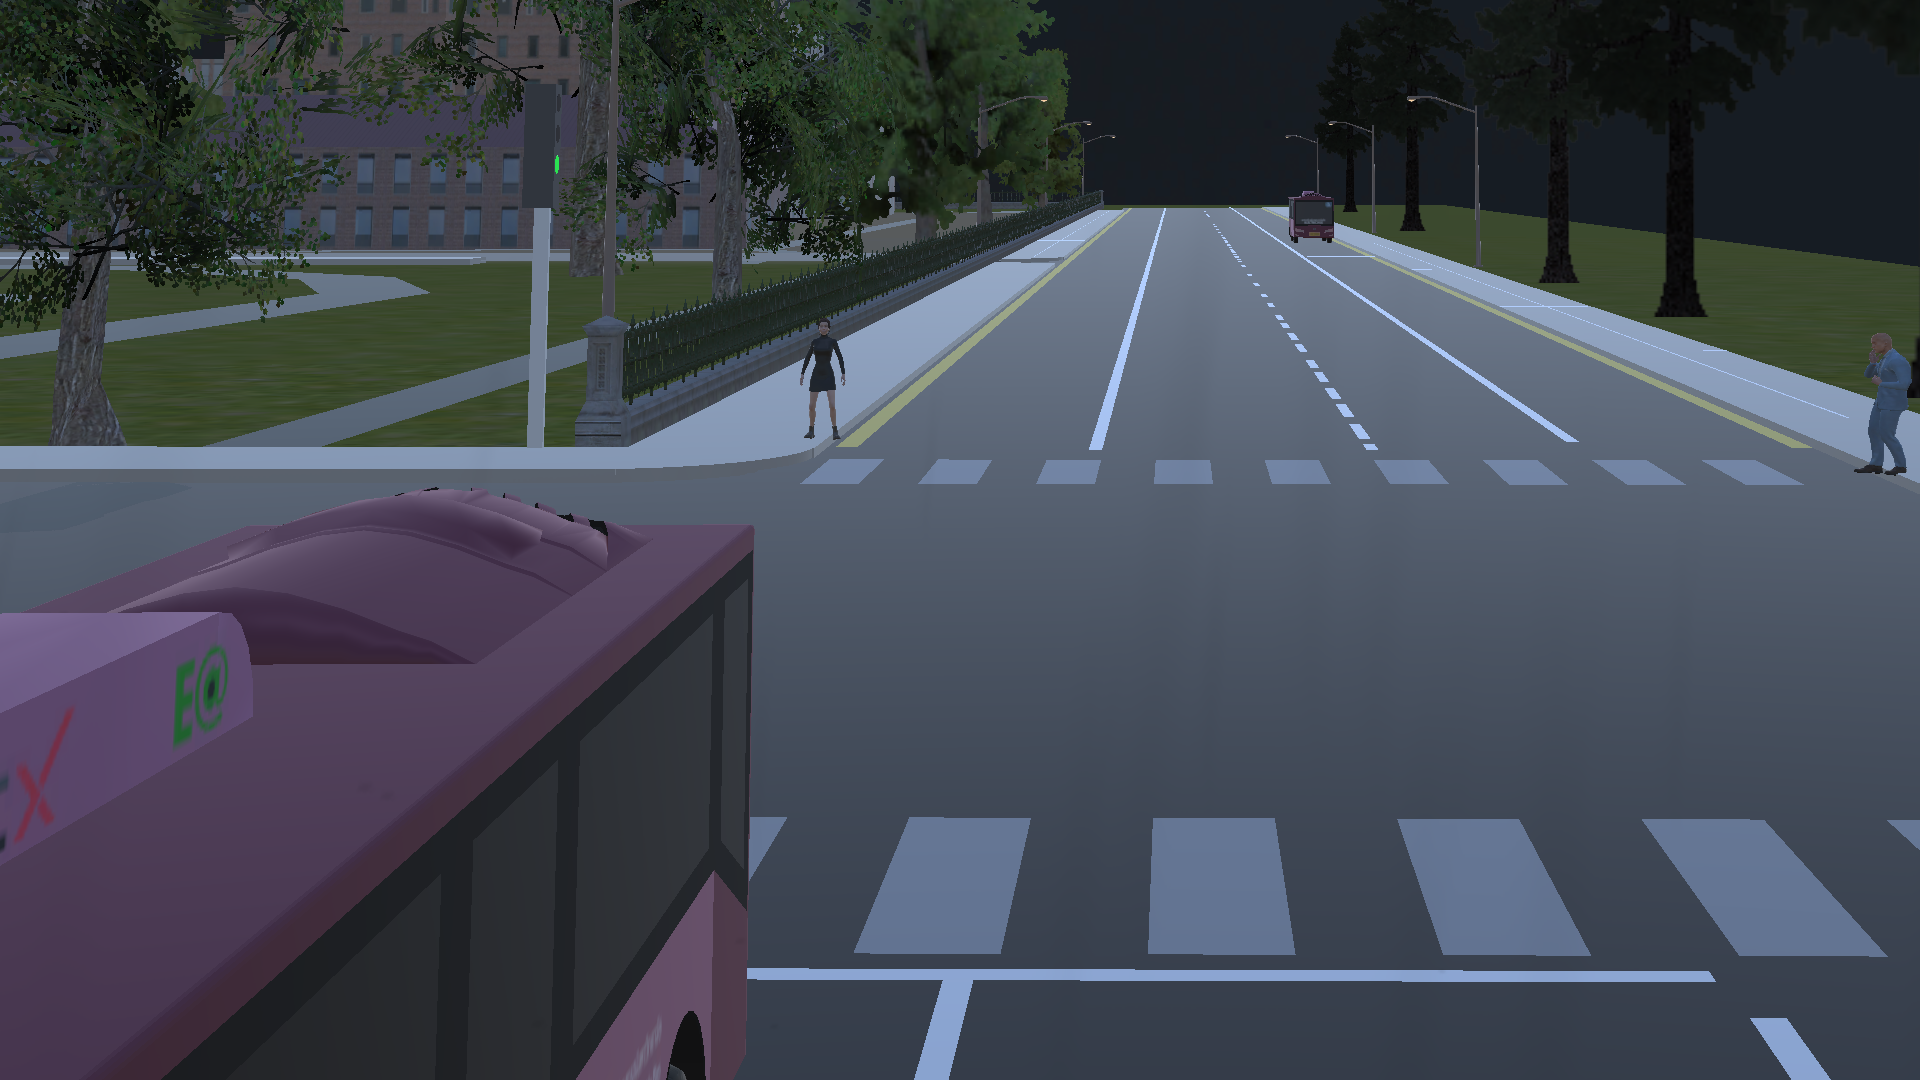pedestrian: (787, 315, 858, 440), (1857, 326, 1910, 483)
